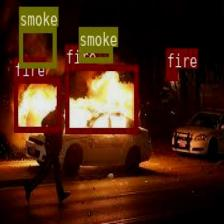fire: (65, 64, 137, 133), (13, 76, 59, 132), (166, 68, 176, 79)
smoke: (18, 26, 56, 67), (78, 46, 112, 61)
